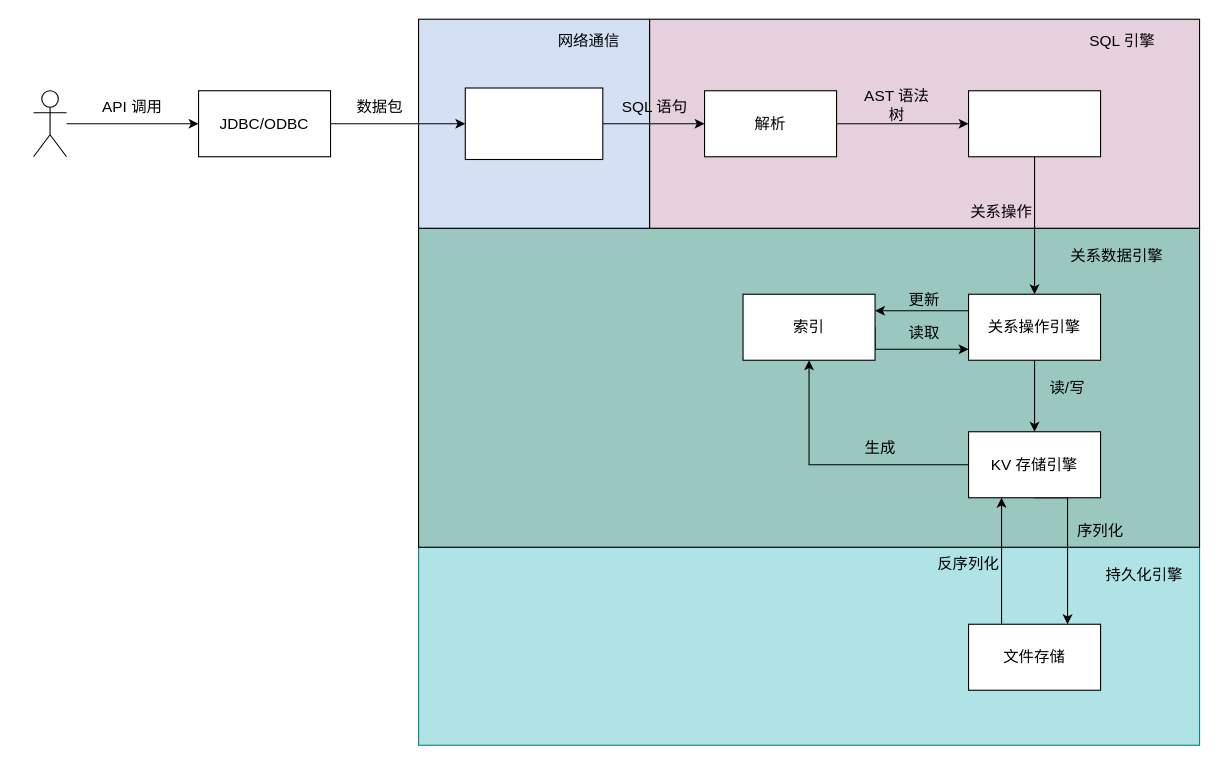
This 1219x765 diagram has some shape labels left out. The shapes that lost their labels are listed below. From the top down, each one's centre as x and y in pixels, then its label:
(49,123): 应用程序
(533,123): PGSQL Decoder/ Encoder
(1034,123): 执行
